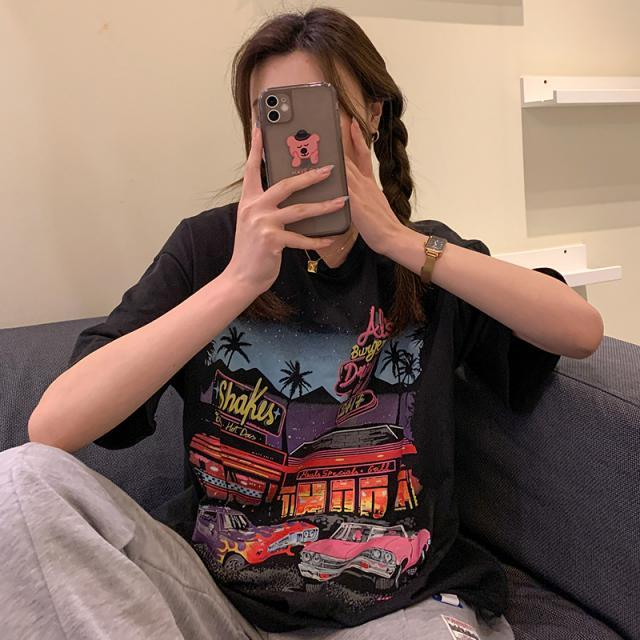Shirt: (60, 193, 575, 640)
